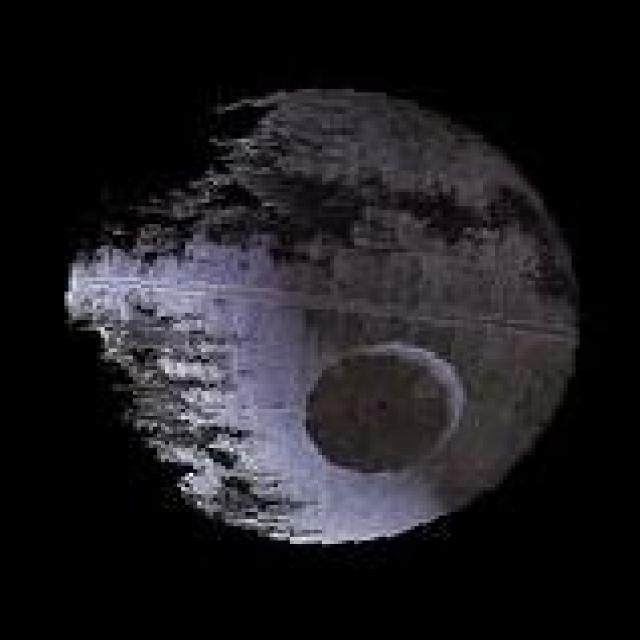Death Star: (56, 78, 588, 551)
